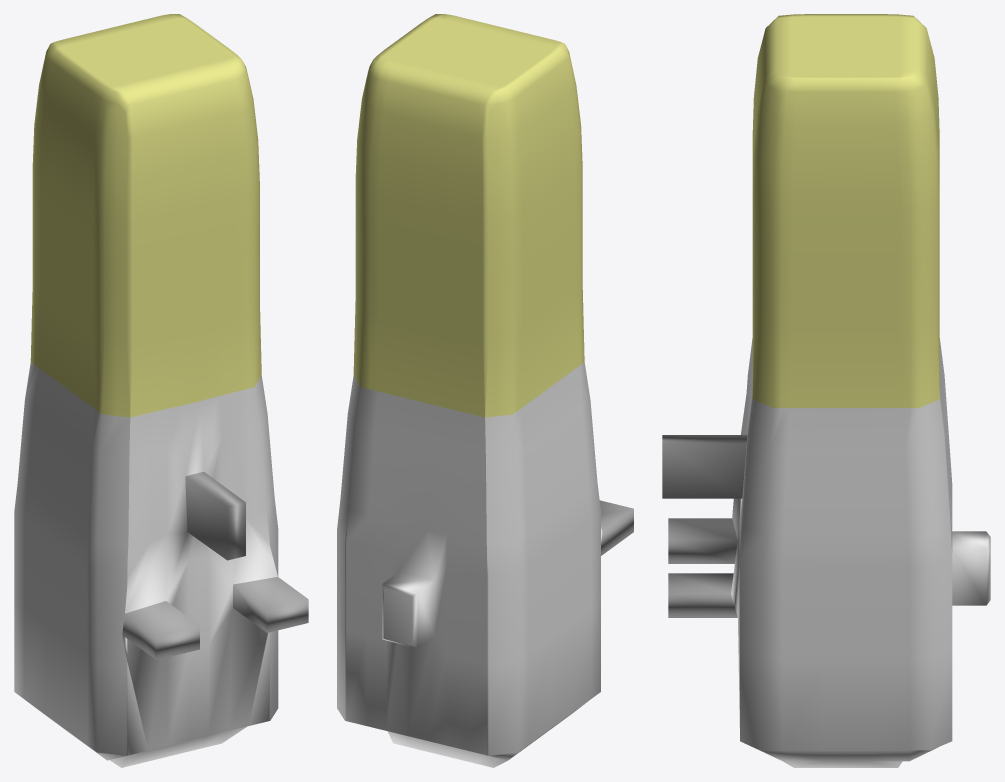
File: Night Light.fbx
3 views of the same model, side by side, from view 1: azimuth 30°, elevation 25°; view 2: azimuth 150°, elevation 25°; view 3: azimuth 270°, elevation 25° (orthographic).
Parts seen in each view (by area): view 1: Night_Light; view 2: Night_Light; view 3: Night_Light.
Part boxes in pixels (box(x1,y1,x2,y2)): Night_Light: box(14, 14, 308, 767); Night_Light: box(337, 14, 633, 767); Night_Light: box(662, 14, 990, 767).
Bounding box in the file's own units: 8.01 × 28.93 × 12.36.
